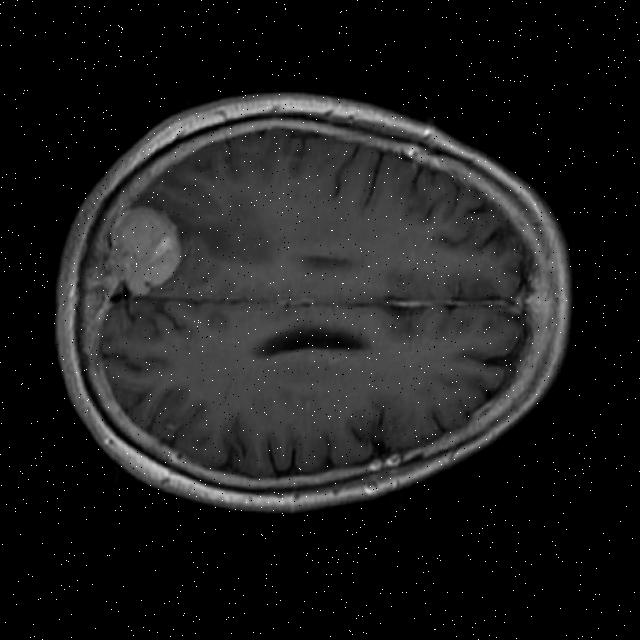Meningioma: (105, 203, 187, 300)
